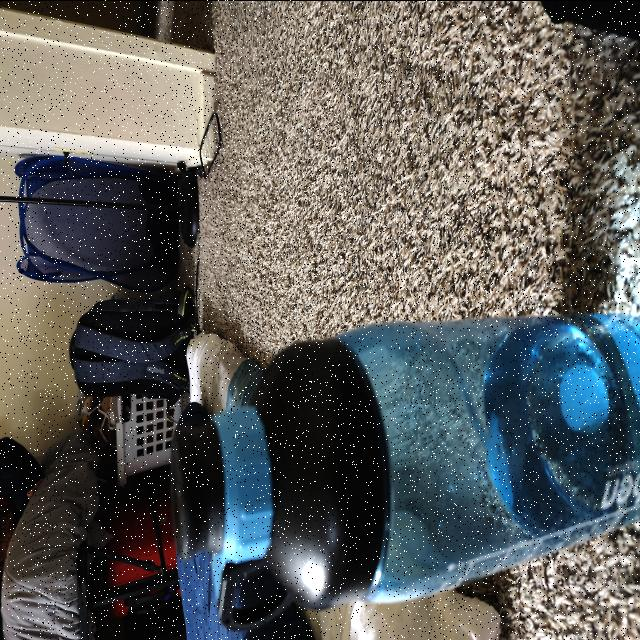bottle: (174, 336, 634, 626)
